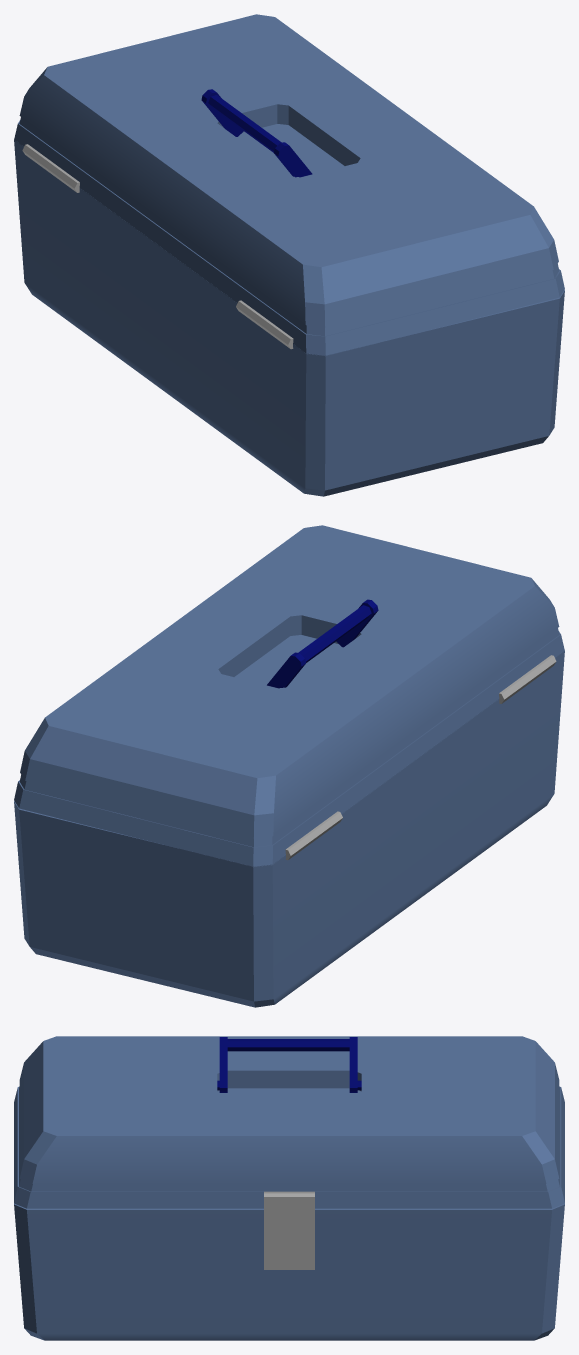
Rendered from Toolbox.fbx.
3 views of the same model, one above another, from view 1: azimuth 30°, elevation 25°; view 2: azimuth 150°, elevation 25°; view 3: azimuth 270°, elevation 25° (orthographic). The views are drawn at different scales.
Parts seen in each view (by area): view 1: Lid, ToolboxBase, Handle; view 2: Lid, ToolboxBase, Handle; view 3: Lid, ToolboxBase, Latch, Handle.
Boxes of the visible parts, x1=… form: Lid: x1=14, y1=14, x2=564, y2=356; ToolboxBase: x1=14, y1=140, x2=564, y2=496; Handle: x1=201, y1=89, x2=312, y2=177; Lid: x1=14, y1=525, x2=564, y2=867; ToolboxBase: x1=14, y1=651, x2=564, y2=1007; Handle: x1=267, y1=599, x2=378, y2=688; Lid: x1=14, y1=1036, x2=564, y2=1208; ToolboxBase: x1=14, y1=1203, x2=564, y2=1340; Latch: x1=264, y1=1191, x2=314, y2=1269; Handle: x1=217, y1=1037, x2=361, y2=1092.
Bounding box in the file's own units: 42.37 × 37.87 × 81.71.
